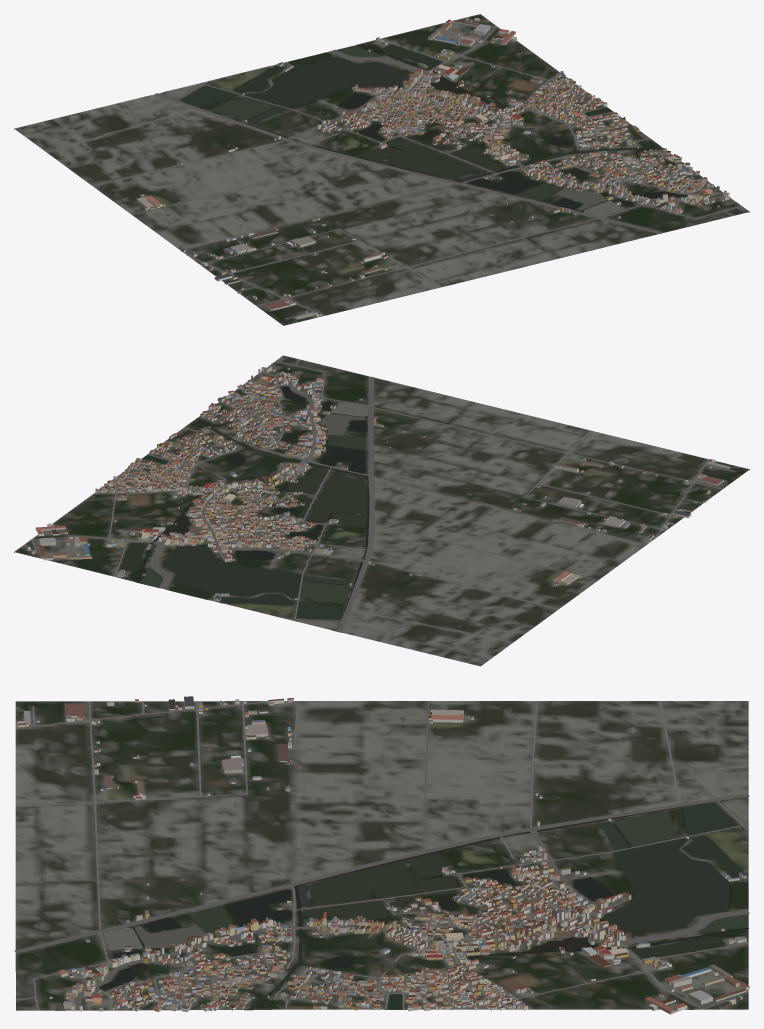
3 renders of one model, top to bottom at view 1: azimuth 30°, elevation 25°; view 2: azimuth 150°, elevation 25°; view 3: azimuth 270°, elevation 25°, orthographic. The views are drawn at different scales.
Parts seen in each view (by area): view 1: ground, buildings, water, roads; view 2: ground, buildings, water, roads; view 3: ground, buildings, water, roads.
Boxes of the visible parts, bbox=[...] form: ground: bbox=[14, 14, 749, 325]; buildings: bbox=[136, 17, 729, 319]; water: bbox=[181, 44, 732, 216]; roads: bbox=[46, 21, 741, 319]; ground: bbox=[14, 355, 749, 666]; buildings: bbox=[27, 366, 730, 601]; water: bbox=[119, 367, 369, 626]; roads: bbox=[30, 359, 735, 642]; ground: bbox=[15, 701, 748, 1010]; buildings: bbox=[17, 696, 749, 1014]; water: bbox=[56, 796, 748, 1010]; roads: bbox=[14, 701, 749, 1010].
Bounding box in the file's own units: 1433 × 26.51 × 1408.
